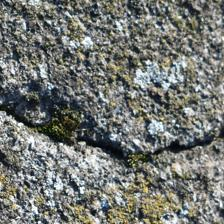Crack: (21, 69, 103, 153), (85, 61, 153, 107)
